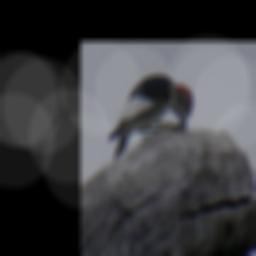Woodpecker: (105, 71, 197, 162)
